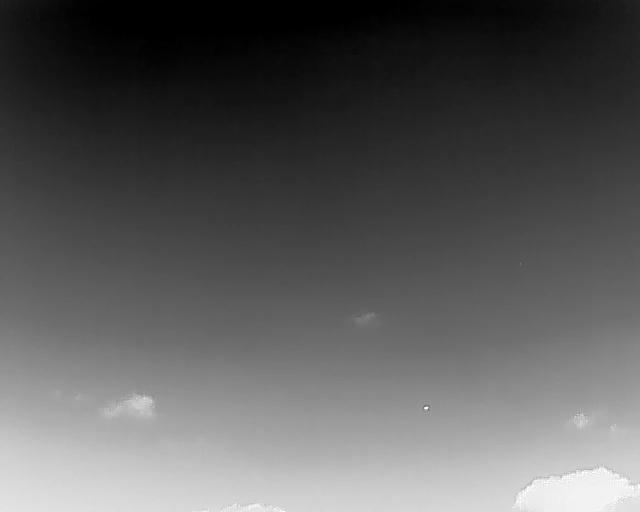fpv-drone: (423, 405, 430, 411)
